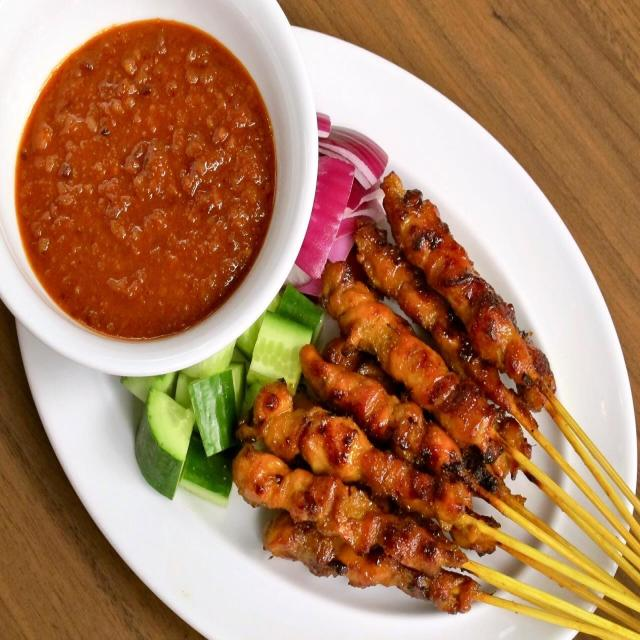Sate: (239, 196, 640, 640)
